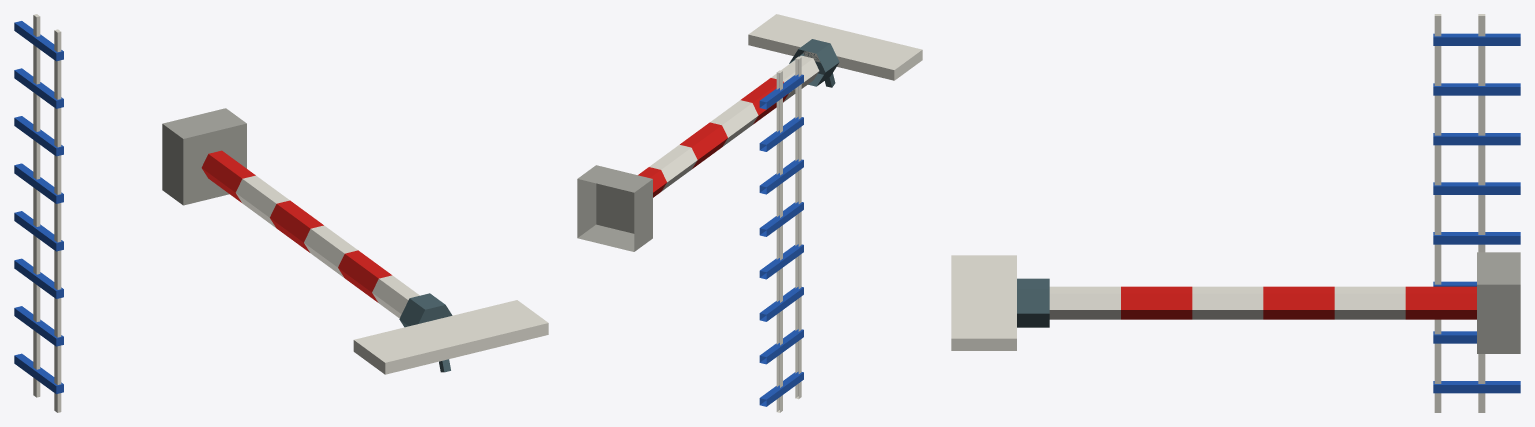
The model's file is frame_6.glb.
The picture shows the model from 3 angles, left to right: view 1: azimuth 30°, elevation 25°; view 2: azimuth 150°, elevation 25°; view 3: azimuth 270°, elevation 25°; orthographic projection. The views are drawn at different scales.
Visible parts, largest first — view 1: t0_3_g52.006; view 2: t0_3_g52.006; view 3: t0_3_g52.006.
Part boxes in pixels (x1,y1,x2,y2): t0_3_g52.006: (14,14,548,412); t0_3_g52.006: (577,14,922,412); t0_3_g52.006: (951,14,1520,412).
Size of the model in its own units: 11.52 by 16 by 20.8.
